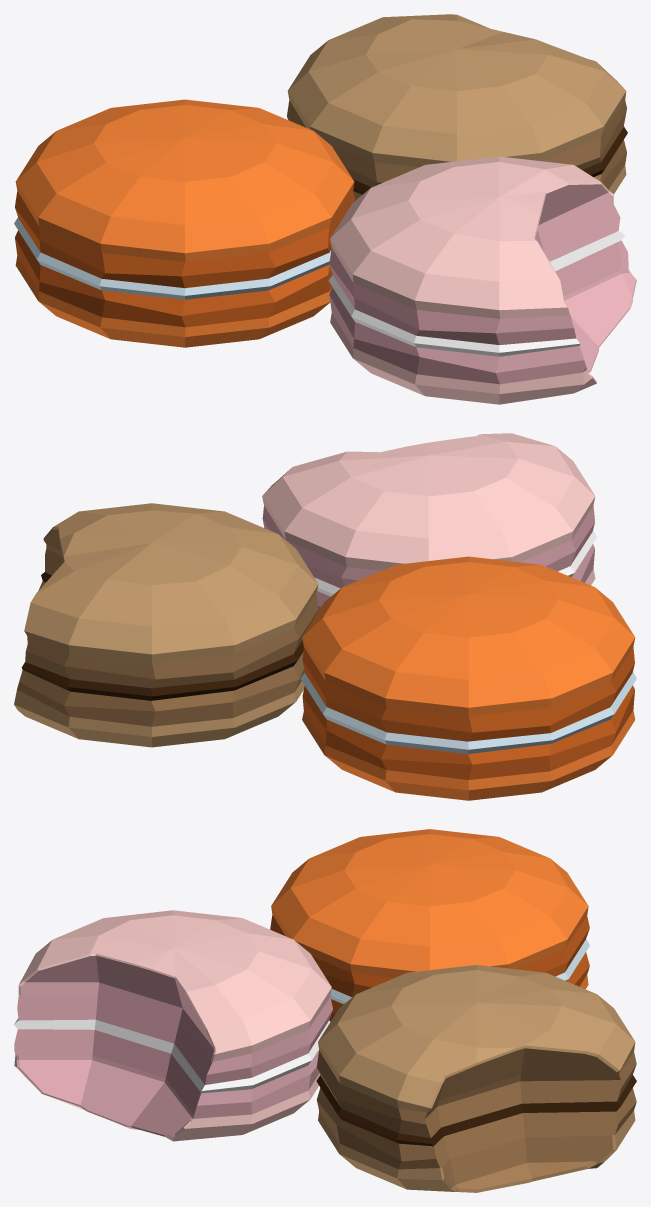
The model's file is MakaronState2.fbx.
3 renders of one model, top to bottom at view 1: azimuth 30°, elevation 25°; view 2: azimuth 150°, elevation 25°; view 3: azimuth 270°, elevation 25°, orthographic. The views are drawn at different scales.
Visible parts, largest first — view 1: MakaronState2; view 2: MakaronState2; view 3: MakaronState2.
Boxes of the visible parts, x1,y1,x2,y2 form: MakaronState2: (14,14,636,404); MakaronState2: (14,433,636,800); MakaronState2: (14,829,636,1192).
Size of the model in its own units: 111 by 31.03 by 109.
